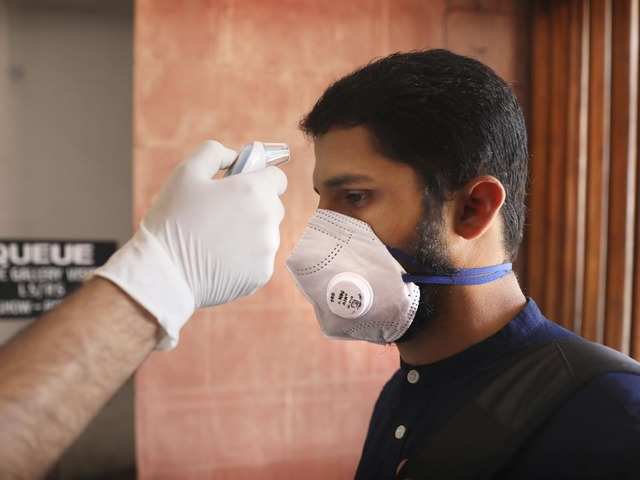mask: (285, 42, 528, 356)
